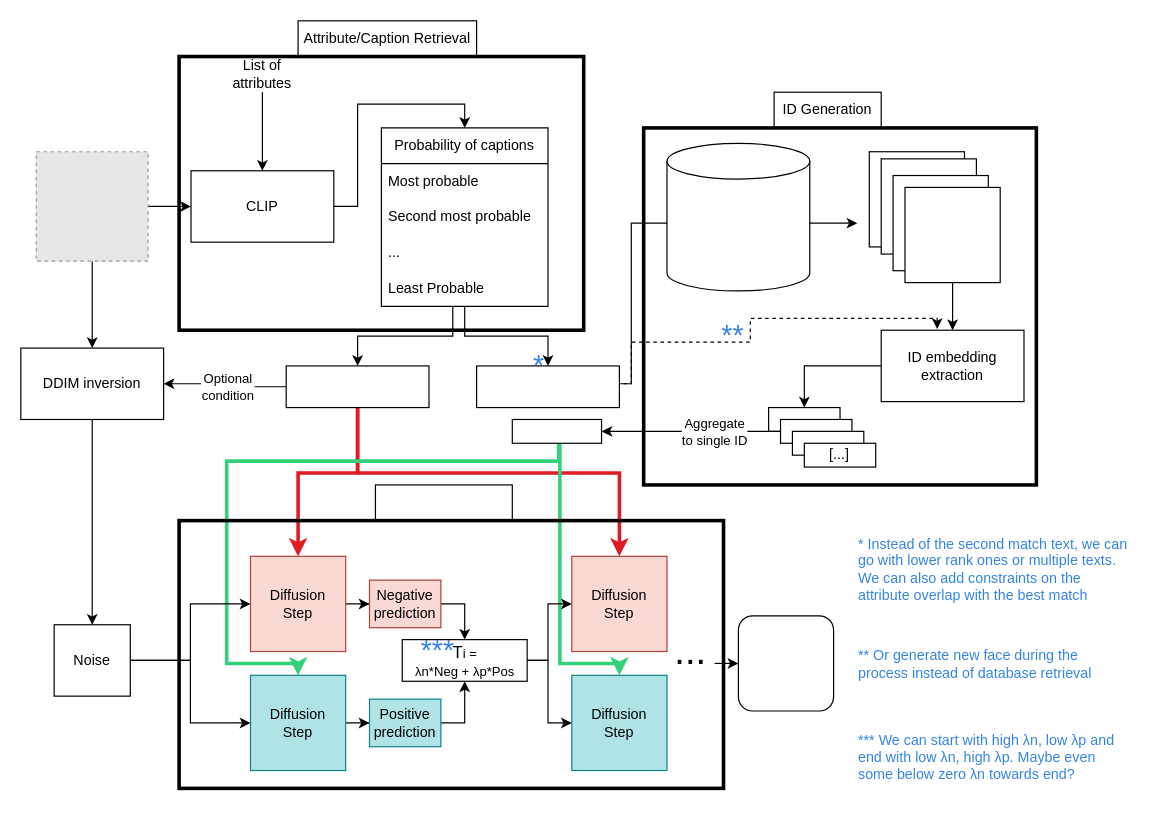
Image size: 1152x814. Some labels were removed from this diagram. Grey dashed boxes stand in for pictures. The centre of each missing label's shape, as x and y in pixels:
"C1 = Best matching caption text" goes at point (357, 386).
"C2 = Second best matching caption text" goes at point (547, 386).
"Database of synthetic images and their CLIP image embeddings" goes at point (738, 216).
"Image Generation" goes at point (443, 502).
"N synthetic images with best match to C2" goes at point (952, 234).
"New ID = [...]" goes at point (556, 430).
"T 0 = Final Image" goes at point (785, 663).
